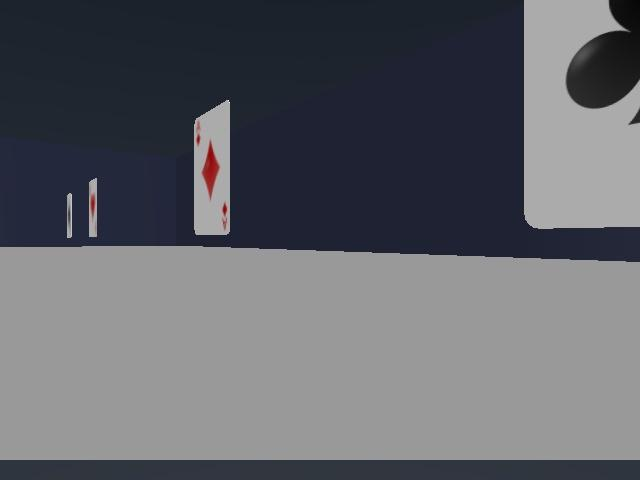diamond: (194, 101, 229, 234)
heart: (89, 178, 97, 236)
